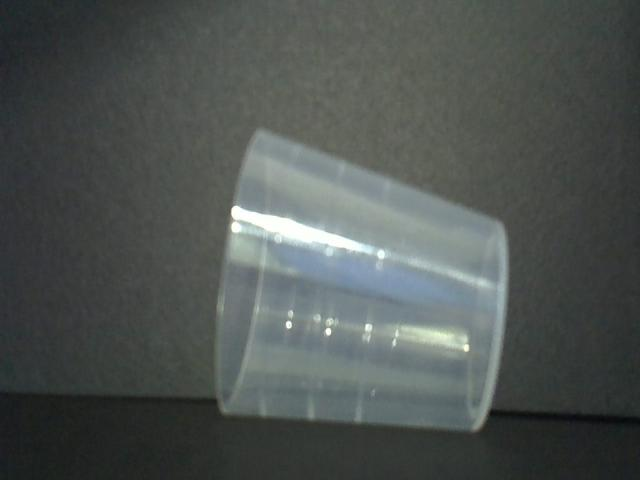cup: (208, 127, 515, 444)
